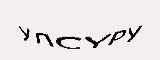П: (35, 32, 55, 47)
Р: (107, 29, 127, 49)
С: (54, 35, 83, 50)
У: (125, 24, 143, 44), (17, 26, 32, 42)
Ү: (84, 32, 111, 49)
